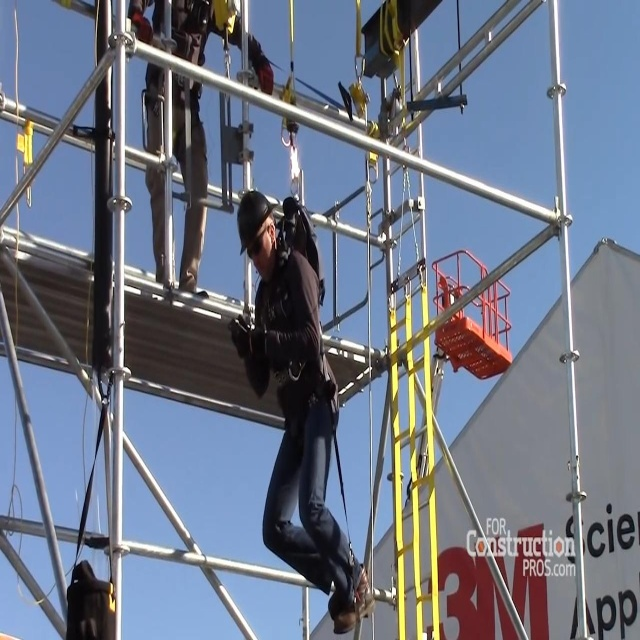Arnes_seguridad: (262, 192, 347, 448), (135, 0, 216, 155)
